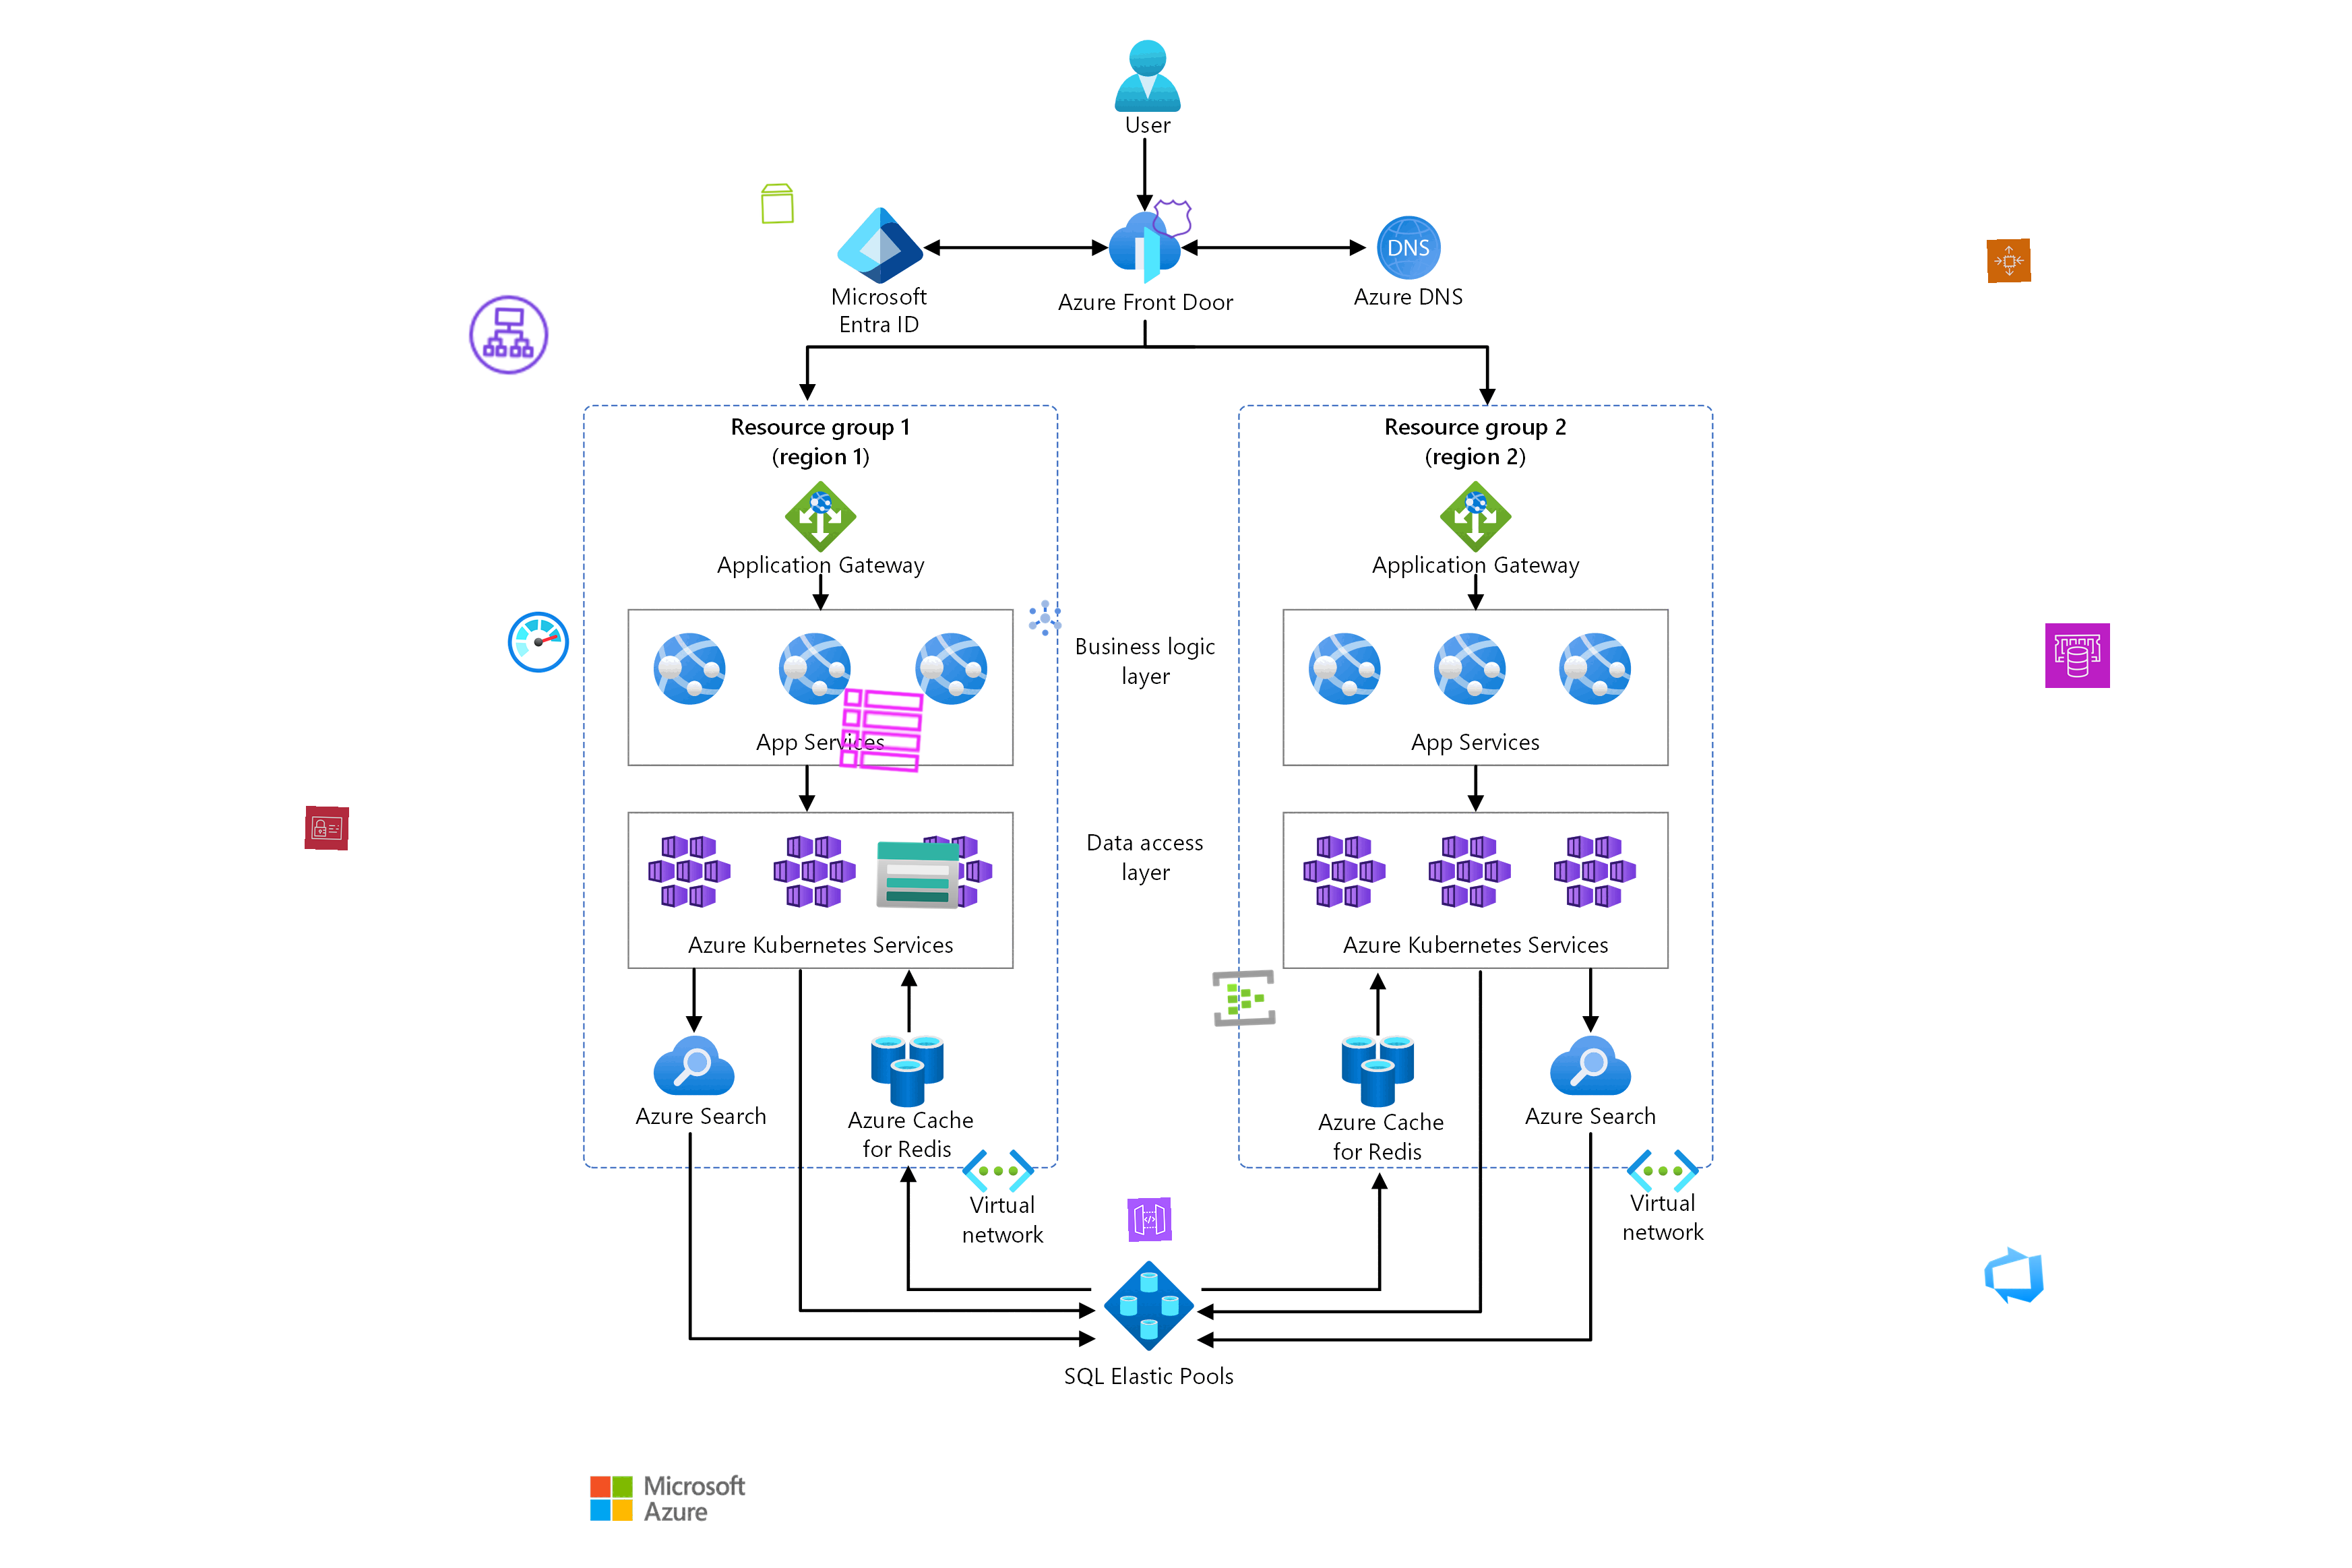aws_amazon_api_gateway: (1127, 1197, 1172, 1243)
aws_amazon_ec2_auto_scaling: (1986, 238, 2032, 283)
aws_amazon_elasticache: (2044, 623, 2110, 689)
aws_dynamodb_table: (835, 684, 927, 777)
aws_elastic_block_store_volume: (756, 182, 800, 226)
aws_elastic_load_balancing_application_load_balancer: (464, 291, 553, 380)
aws_identity_and_access_management: (304, 807, 348, 850)
aws_route_53_hosted_zone: (1150, 196, 1195, 242)
azure_devops: (1979, 1239, 2049, 1311)
azure_event_hubs: (1211, 964, 1277, 1033)
azure_monitor: (504, 607, 572, 677)
azure_storage_accounts: (873, 831, 962, 921)
gcp_pubsub: (1024, 595, 1067, 640)
